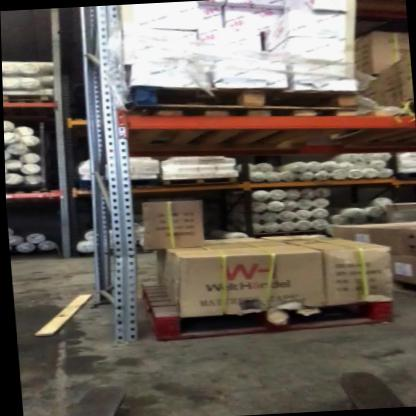vertical_damage: (110, 237, 144, 275)
